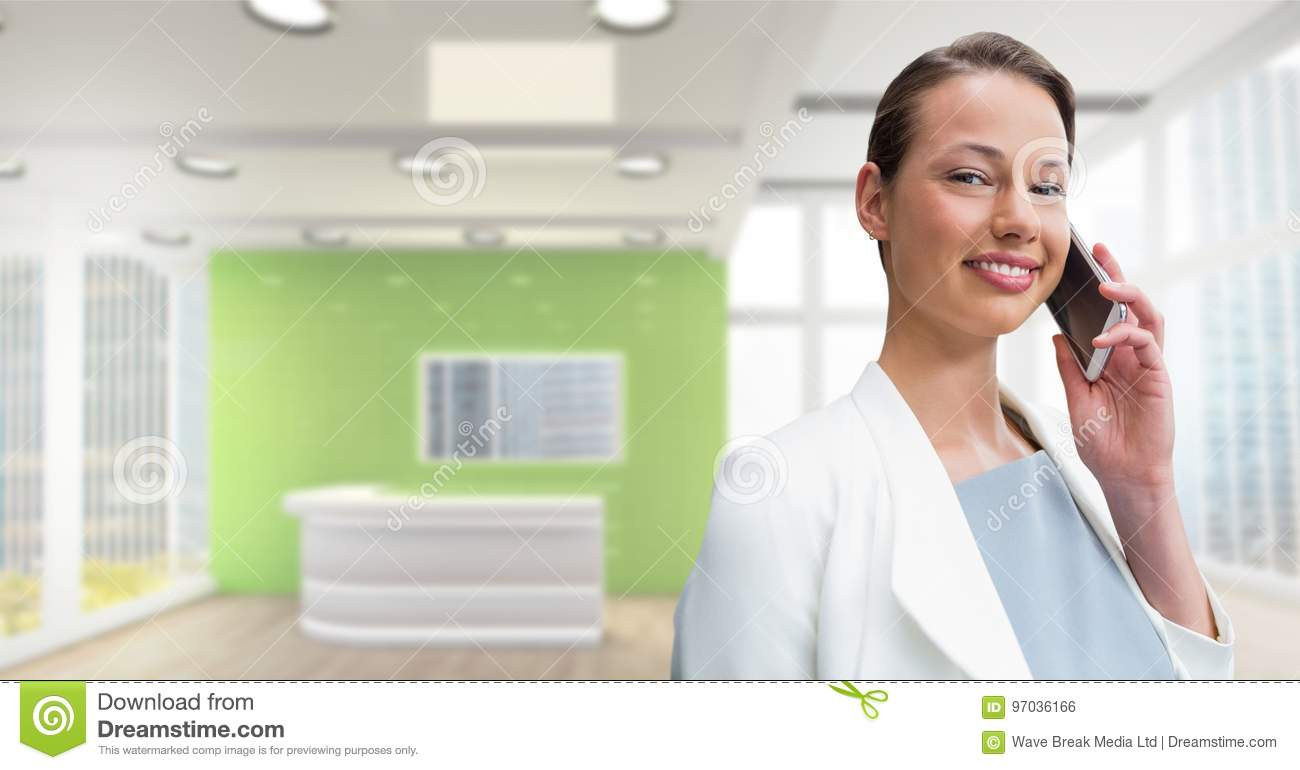phone: (1045, 222, 1128, 394)
talk: (926, 123, 1181, 503)
